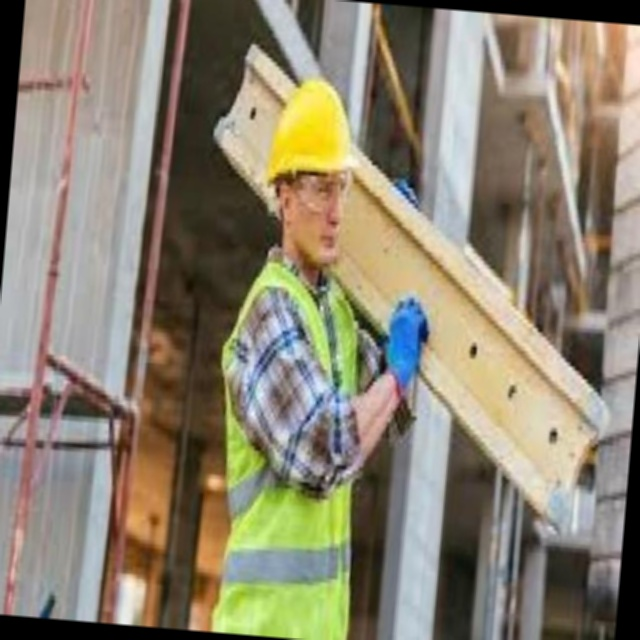gloves: (206, 286, 258, 382)
helmet: (295, 77, 389, 194)
